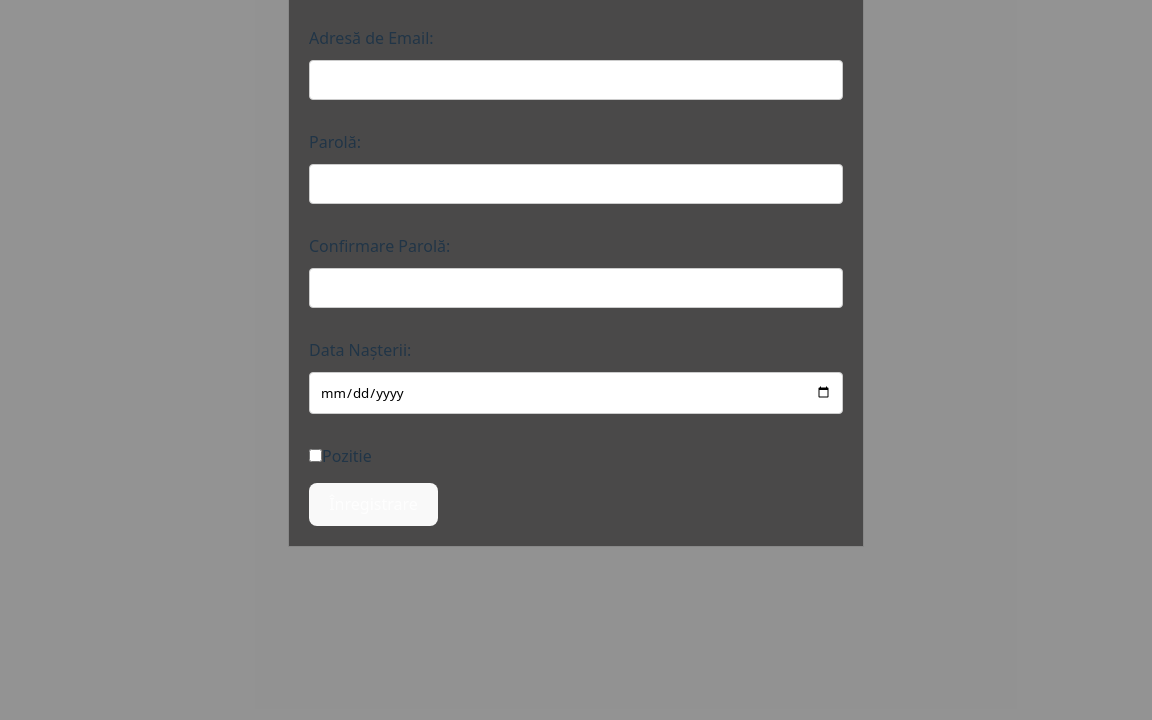
Test: RegistrationModal Component › should require verification code if checkbox is checked
The width and height of the screenshot is (1152, 720).
(page scrolled)
Click the checkbox labelled "Pozitie" at [316, 455], box [309,449,322,462]
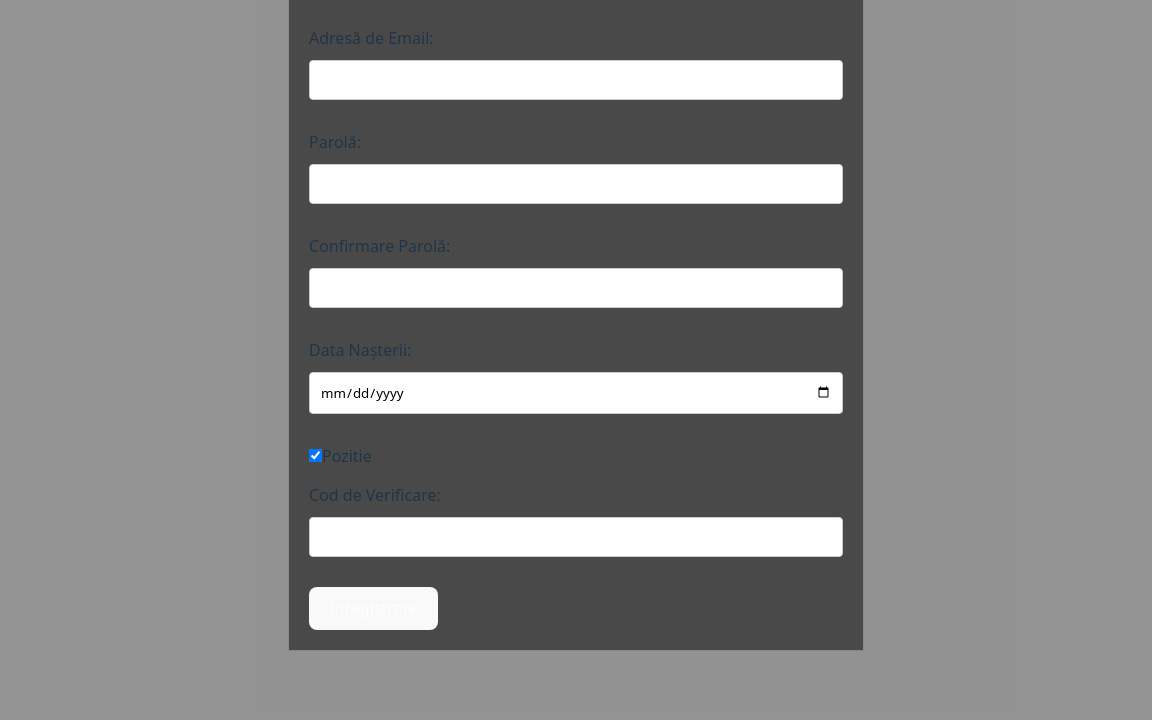
Click the button "Înregistrare" at [374, 608], box [309,587,438,630]
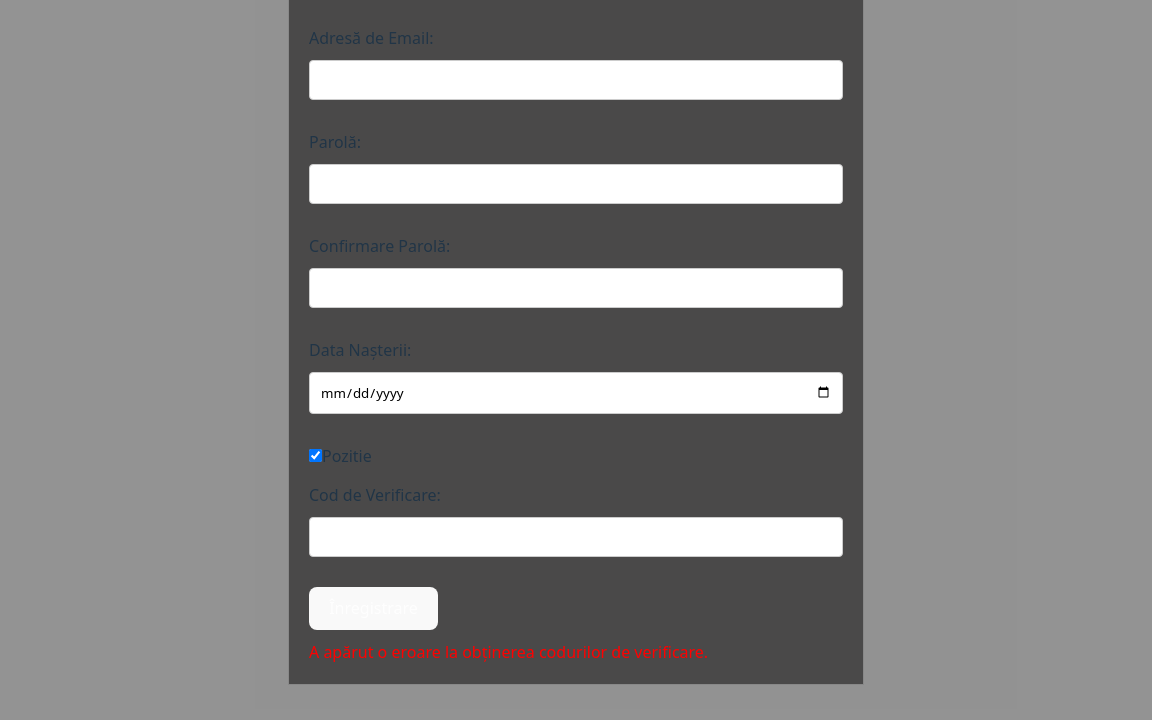
Expected: the text "Codul de verificare este necesar dacă caseta este bifată." is shown, [309,641,708,663]
